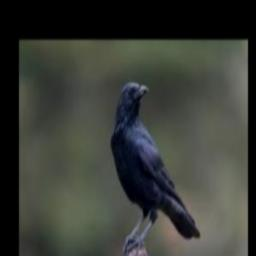Crow: (110, 81, 201, 244)
